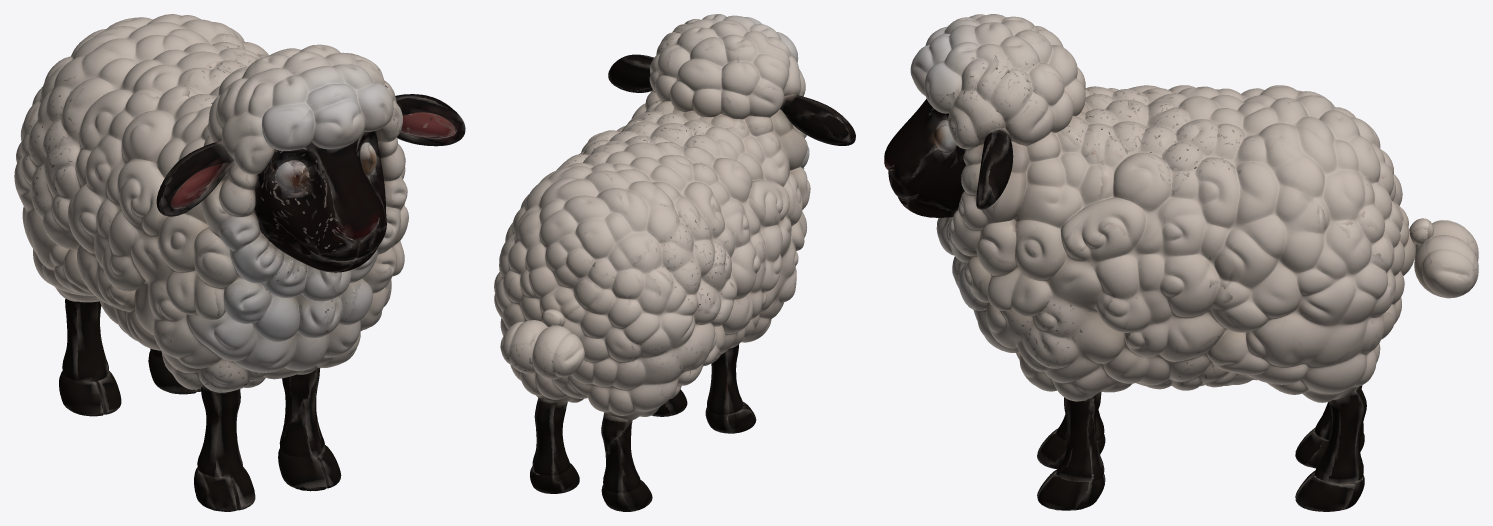
File: hy3_sheep_draco.glb
3 views of the same model, side by side, from view 1: azimuth 30°, elevation 25°; view 2: azimuth 150°, elevation 25°; view 3: azimuth 270°, elevation 25° (orthographic). The views are drawn at different scales.
Parts seen in each view (by area): view 1: material; view 2: material; view 3: material.
Part boxes in pixels (x1,y1,x2,y2): material: (14,14,465,511); material: (494,14,855,511); material: (884,14,1478,511).
Size of the model in its own units: 0.6078 by 0.8774 by 1.04.
1 material, 1 textured.
